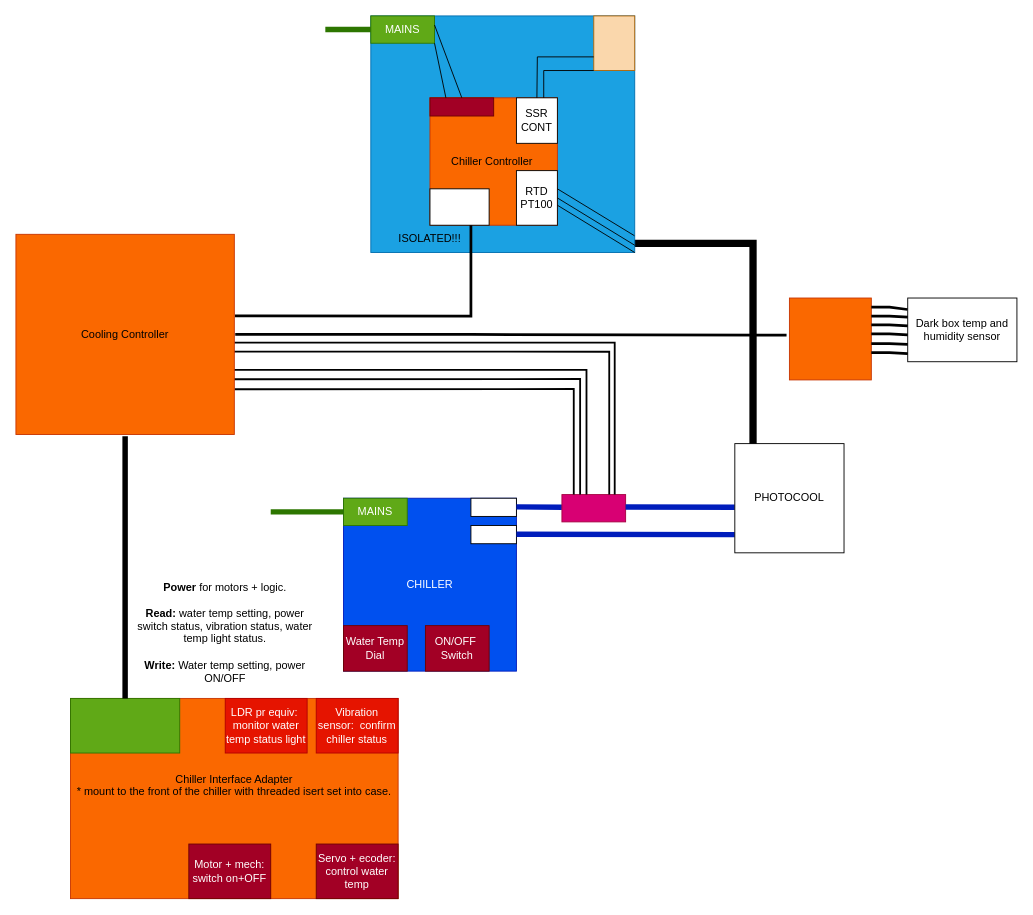
The diagram is 1033 pixels wide and 915 high, and some of its shapes have lost their labels. The centre of each missing label's shape, as x and y in pixels:
AC IN: (461,106)
CAN: (459,206)
flow+temp sensor: (593,508)
HDC302x CAN interface: (830,338)
IN: (493,506)
OUT: (493,534)
Power + CAN: (125,725)
SSR: (614,43)
